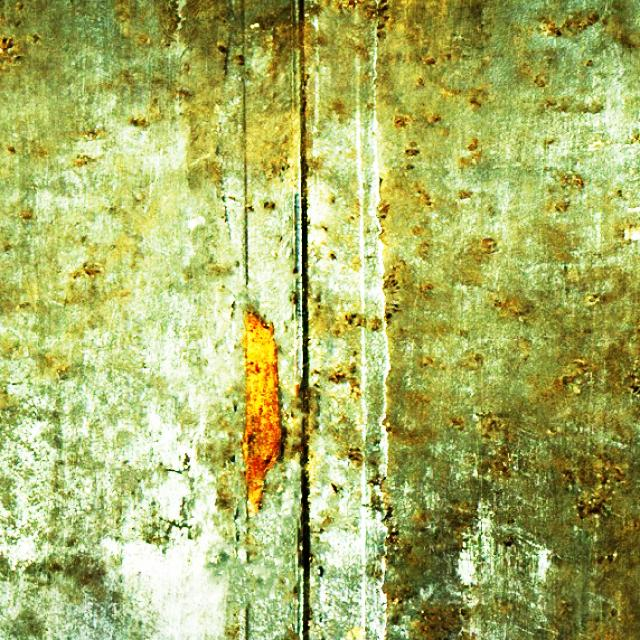Corrosion: (243, 311, 282, 518)
